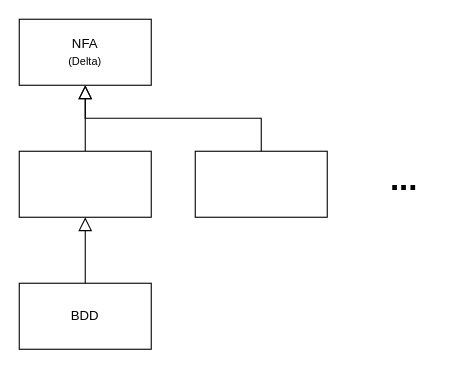
Some shapes in this 457 by 369 pixel diagram are drawn without their labels. Each missing label, with the centre of its shape:
"NFST (levels)" belongs at point (84, 183).
"Register NFA (registers)" belongs at point (260, 183).
